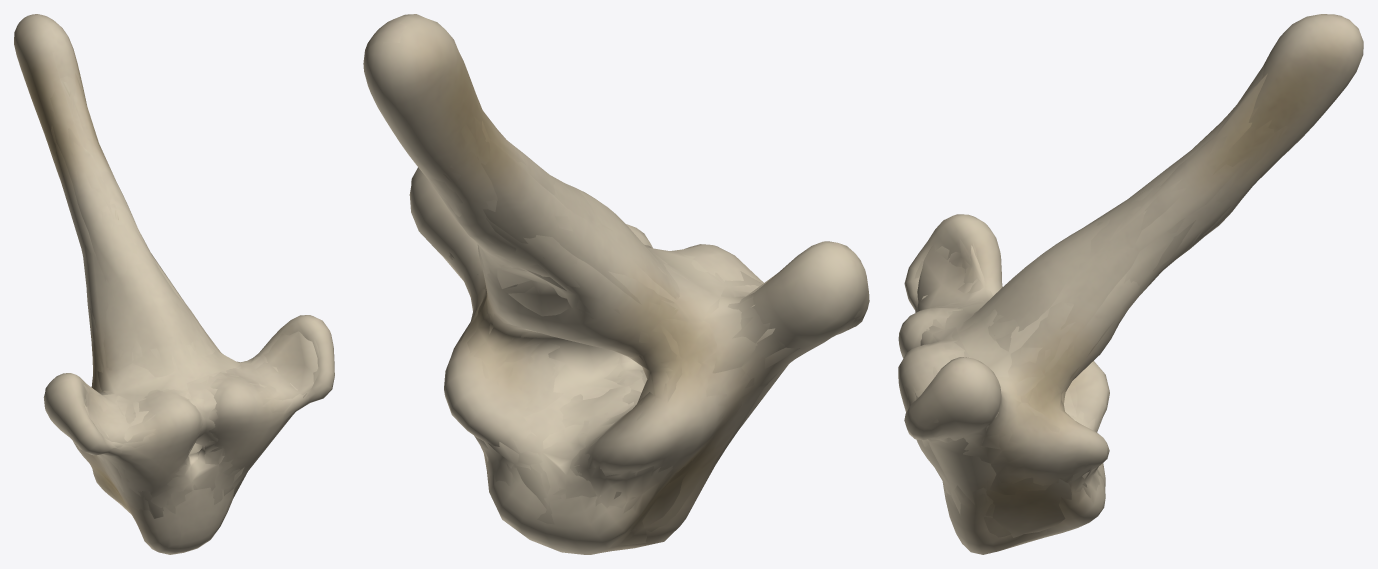
File: vertebrae thoracicae 06.fbx
3 views of the same model, side by side, from view 1: azimuth 30°, elevation 25°; view 2: azimuth 150°, elevation 25°; view 3: azimuth 270°, elevation 25° (orthographic). The views are drawn at different scales.
Visible parts, largest first — view 1: vertebrae thoracicae 06 high, vertebrae thoracicae 06 low, vertebrae thoracicae 06; view 2: vertebrae thoracicae 06 high, vertebrae thoracicae 06 low, vertebrae thoracicae 06; view 3: vertebrae thoracicae 06 high, vertebrae thoracicae 06 low, vertebrae thoracicae 06.
Part boxes in pixels (x1,y1,x2,y2): vertebrae thoracicae 06 high: (14,14,334,554); vertebrae thoracicae 06 low: (49,73,317,518); vertebrae thoracicae 06: (37,76,325,517); vertebrae thoracicae 06 high: (363,14,869,554); vertebrae thoracicae 06 low: (428,112,800,527); vertebrae thoracicae 06: (427,97,865,546); vertebrae thoracicae 06 high: (898,14,1363,554); vertebrae thoracicae 06 low: (915,73,1279,537); vertebrae thoracicae 06: (905,65,1288,542).
Size of the model in its own units: 9.14 by 13.44 by 10.69.
1 material, 1 textured.
